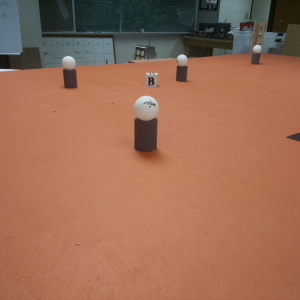blockB: (145, 70, 159, 89)
corner: (251, 20, 267, 45)
obstacle: (132, 95, 160, 152), (59, 55, 80, 89), (175, 54, 190, 82), (251, 45, 263, 65)
